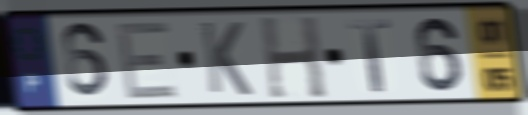6: (60, 19, 113, 103), (412, 14, 466, 95)
E: (113, 18, 181, 102)
H: (257, 14, 329, 101)
K: (196, 19, 255, 99)
T: (345, 17, 394, 94)
